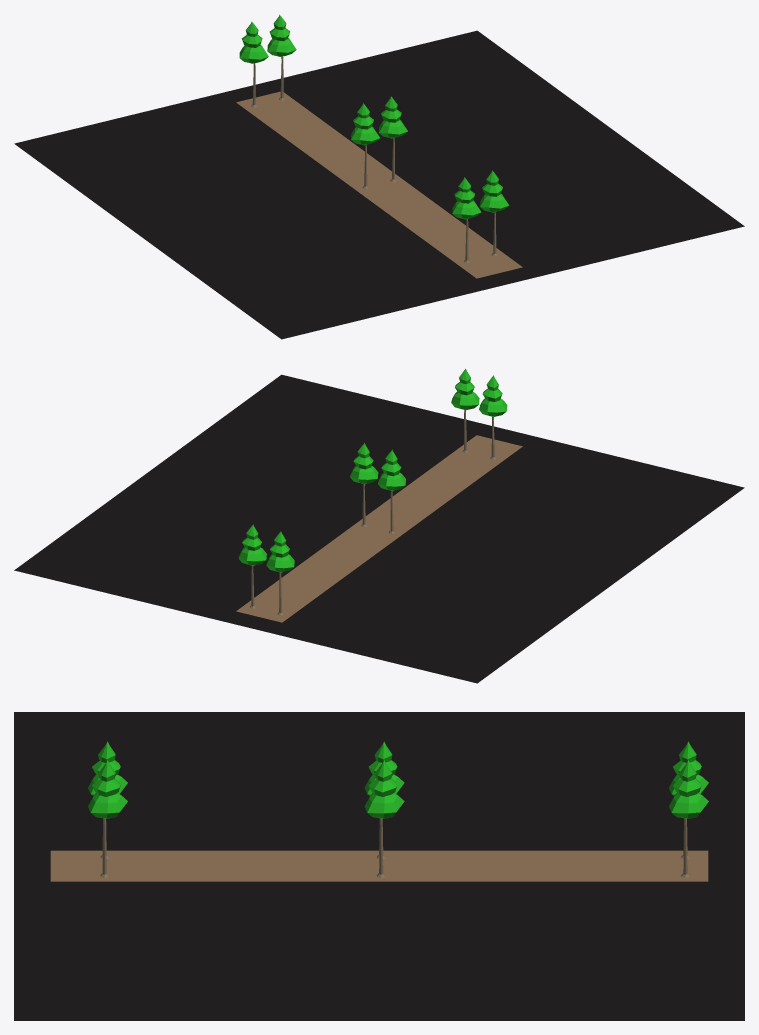
The model's file is Tile 16_Combined_3.fbx.
3 renders of one model, top to bottom at view 1: azimuth 30°, elevation 25°; view 2: azimuth 150°, elevation 25°; view 3: azimuth 270°, elevation 25°, orthographic. The views are drawn at different scales.
Visible parts, largest first — view 1: MeshBaker_mesh_mesh; view 2: MeshBaker_mesh_mesh; view 3: MeshBaker_mesh_mesh.
Part boxes in pixels (<box>): MeshBaker_mesh_mesh: <box>14,14,744,339</box>; MeshBaker_mesh_mesh: <box>14,368,744,683</box>; MeshBaker_mesh_mesh: <box>14,712,744,1020</box>.
Bounding box in the file's own units: 3000 × 524 × 3000.
